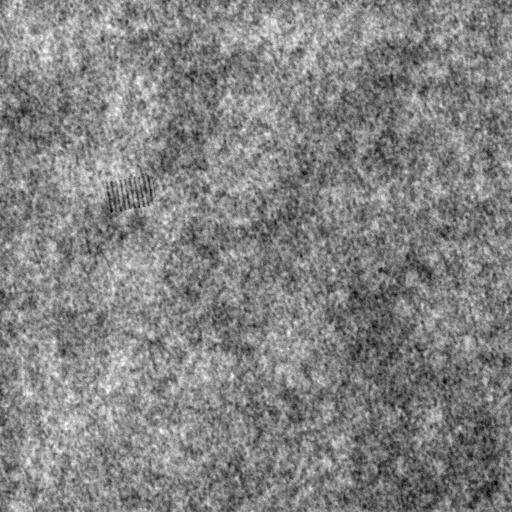impact: (102, 173, 156, 216)
